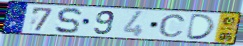4: (121, 10, 146, 39)
7: (31, 7, 53, 32)
9: (93, 10, 115, 35)
C: (158, 13, 188, 38)
D: (184, 13, 217, 41)
S: (54, 7, 84, 35)
